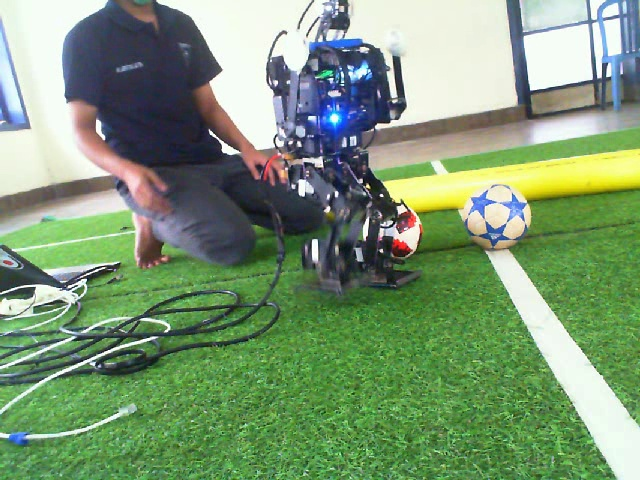ball: (460, 180, 533, 252), (387, 200, 424, 260)
